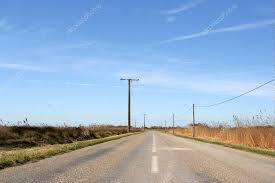strada: (68, 127, 251, 182)
